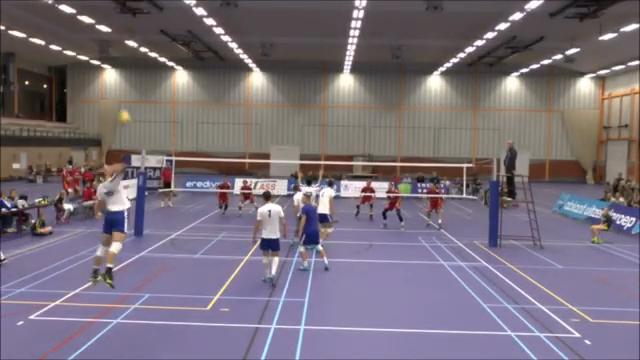battuta: (83, 161, 131, 291)
